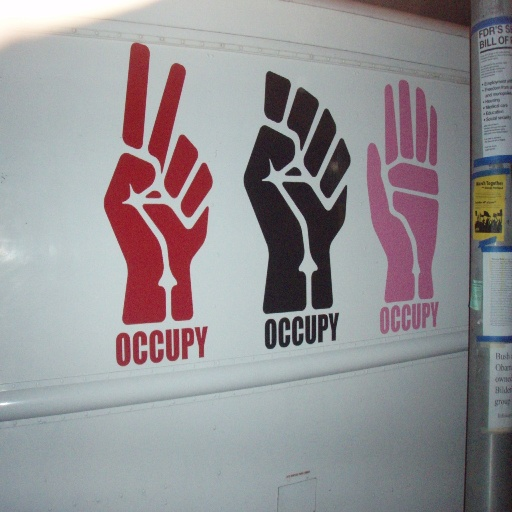hand: (98, 63, 208, 327), (241, 70, 350, 314), (365, 79, 439, 298)
